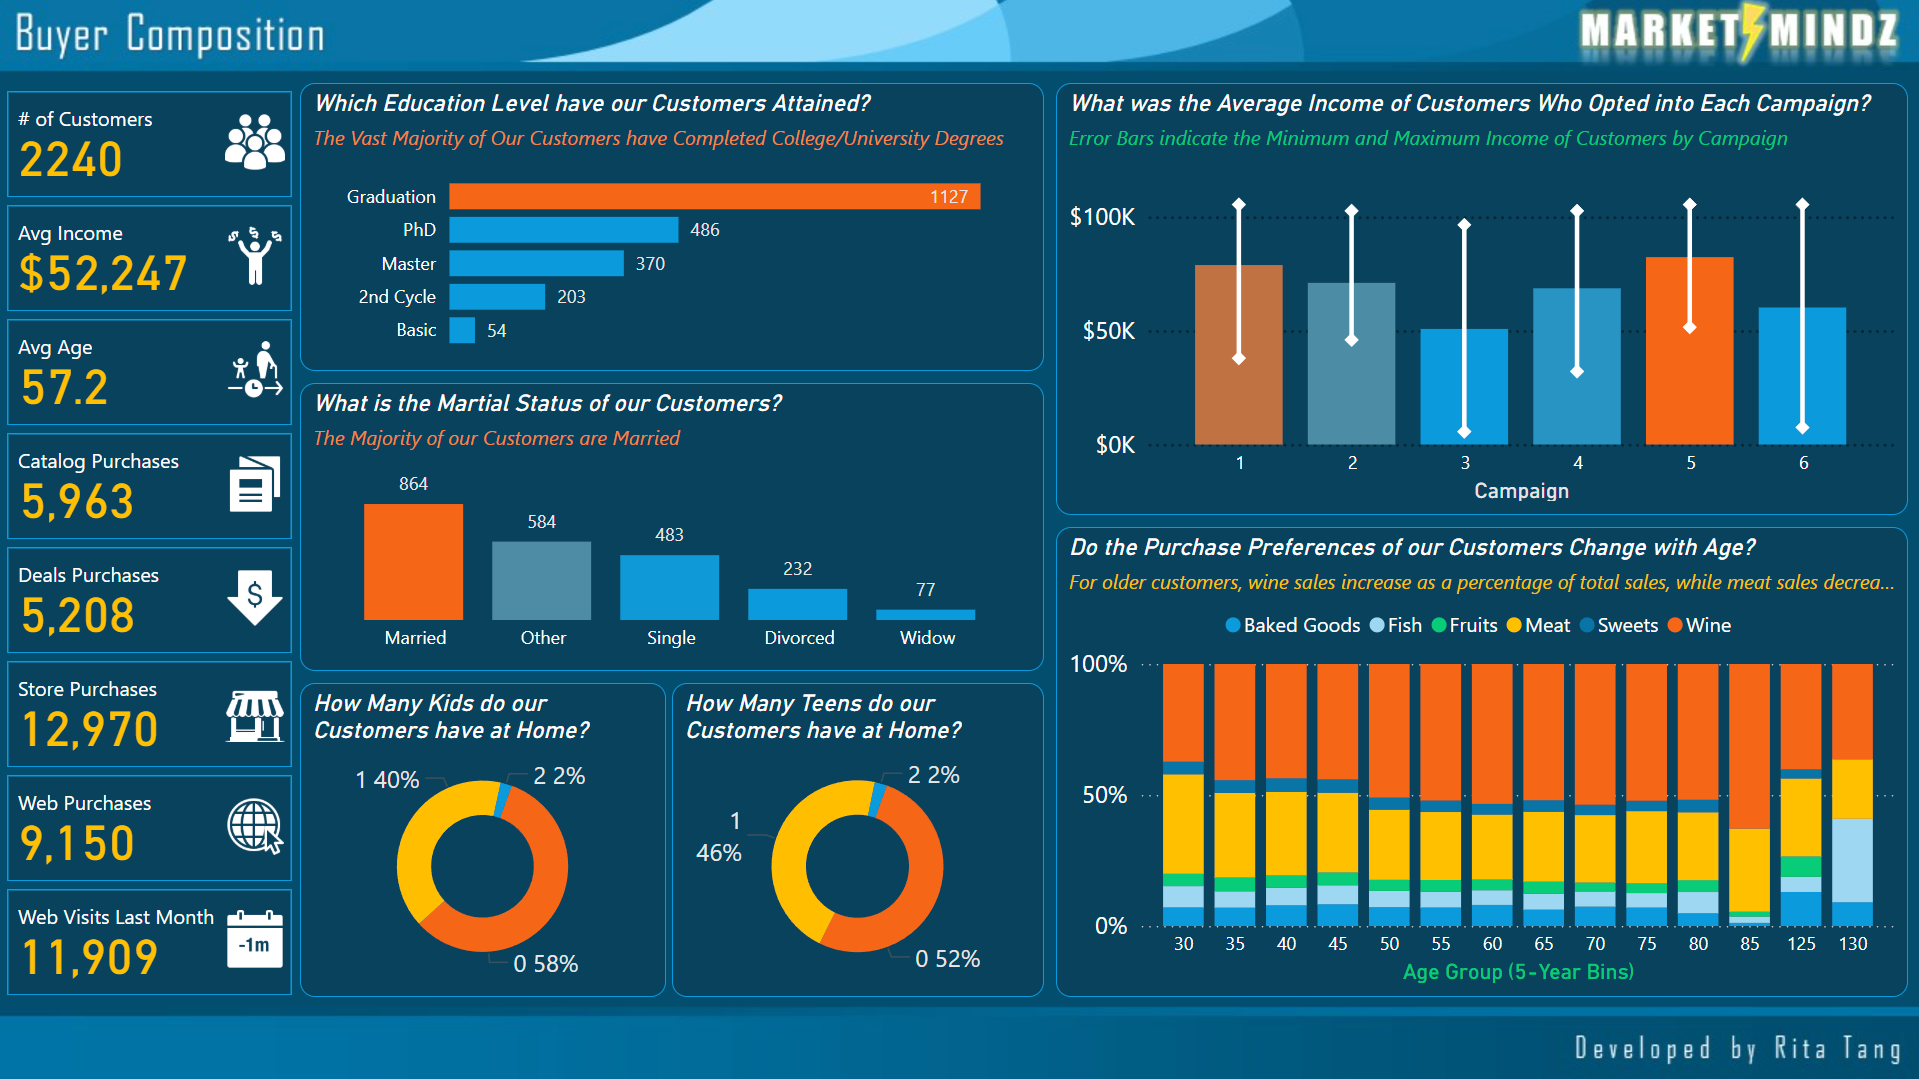

This screenshot's page, from the dashboard's own definition file:
{"tool":"powerbi","page":{"name":"Buyer Composition","canvas":[1280,720],"ordinal":1},"visuals":[{"type":"barChart","title":"Which Education Level have our Customers Attained?","fields":{"Category":["marketmindz_research_data.Education"],"Y":["CountNonNull(marketmindz_research_data.ID)"]},"box":[200,56,496,192],"z":0},{"type":"columnChart","title":"What is the Martial Status of our Customers?","fields":{"Category":["marketmindz_research_data.Marital_Status"],"Y":["CountNonNull(marketmindz_research_data.ID)"]},"box":[200,256,496,192],"z":1000},{"type":"donutChart","title":"How Many Teens do our Customers have at Home?","fields":{"Category":["marketmindz_research_data.Teenhome"],"Y":["CountNonNull(marketmindz_research_data.ID)"]},"box":[448,456,248,209],"z":2000},{"type":"donutChart","title":"How Many Kids do our Customers have at Home?","fields":{"Category":["marketmindz_research_data.Kidhome"],"Y":["CountNonNull(marketmindz_research_data.ID)"]},"box":[200,456,244,209],"z":3000},{"type":"clusteredColumnChart","title":"What was the Average Income of Customers Who Opted into Each Campaign?","fields":{"Category":["campaign.Campaign"],"Y":["Avg(marketmindz_research_data. Income )"]},"box":[704,56,568,288],"z":4000},{"type":"hundredPercentStackedColumnChart","title":"Do the Purchase Preferences of our Customers Change with Age?","fields":{"Series":["products.Product"],"Y":["Sum(products.Total Sales)"],"Category":["marketmindz_research_data.Age (bins)"]},"box":[704,352,568,313],"z":5000},{"type":"cardVisual","fields":{"Data":["CountNonNull(marketmindz_research_data.ID)","Avg(marketmindz_research_data. Income )","Avg(marketmindz_research_data.Age)","Sum(marketmindz_research_data.Purchased - Catalog)","Sum(marketmindz_research_data.Purchased - Deals)","Sum(marketmindz_research_data.Purchased - Store)","Sum(marketmindz_research_data.Purchased - Web)","Sum(marketmindz_research_data.Web Visits Last Month)"]},"box":[0,56,200,616],"z":6000}]}

Visuals, with their boxes in screenshot pixels (x1, y1, x2, y2), scaled from the page's 1280x720 canvas onto the 1919x1079 screenshot:
"Which Education Level have our Customers Attained?" barChart: 300:84:1043:372
"What is the Martial Status of our Customers?" columnChart: 300:384:1043:671
"How Many Teens do our Customers have at Home?" donutChart: 672:683:1043:997
"How Many Kids do our Customers have at Home?" donutChart: 300:683:666:997
"What was the Average Income of Customers Who Opted into Each Campaign?" clusteredColumnChart: 1055:84:1907:516
"Do the Purchase Preferences of our Customers Change with Age?" hundredPercentStackedColumnChart: 1055:528:1907:997
cardVisual - CountNonNull(marketmindz_research_data.ID) x Avg(marketmindz_research_data. Income ): 0:84:300:1007
